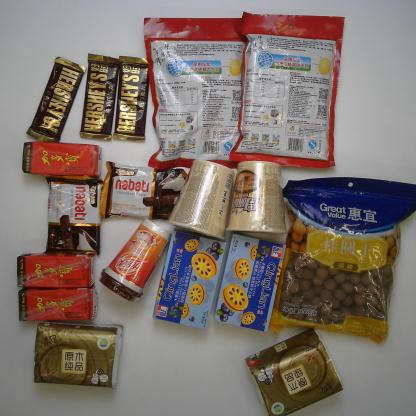Chocolate: (26, 56, 87, 144), (79, 53, 119, 143), (114, 55, 151, 140)
Dessert: (214, 230, 287, 334), (152, 228, 225, 331), (99, 162, 188, 224), (42, 178, 103, 257)
Dried Food: (267, 172, 414, 344)
Drink: (21, 139, 104, 178), (17, 286, 96, 323), (16, 253, 96, 288)
Instant Drink: (229, 9, 346, 169), (140, 15, 248, 170), (100, 216, 173, 305)
Instant Noodles: (170, 158, 238, 242), (225, 160, 290, 238)
Tissue: (247, 326, 345, 416), (30, 320, 125, 389)
